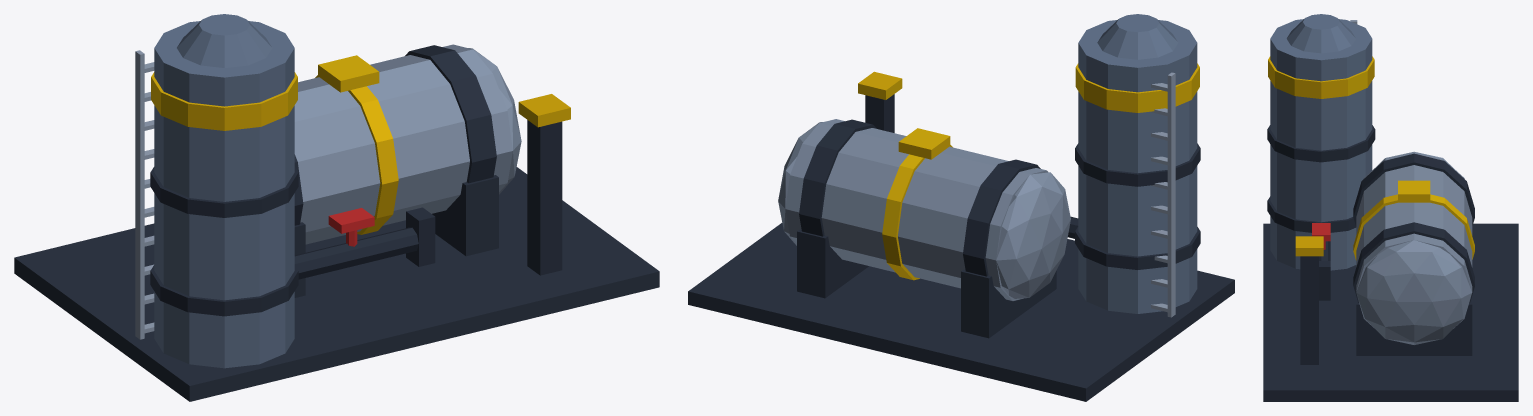
Rendered from Decor_MechaHangar_FuelTanks.fbx.
The picture shows the model from 3 angles, left to right: view 1: azimuth 30°, elevation 25°; view 2: azimuth 150°, elevation 25°; view 3: azimuth 270°, elevation 25°; orthographic projection. The views are drawn at different scales.
Visible parts, largest first — view 1: FuelTanks_Body; view 2: FuelTanks_Body; view 3: FuelTanks_Body.
Boxes of the visible parts, x1=… form: FuelTanks_Body: x1=14, y1=14, x2=659, y2=401; FuelTanks_Body: x1=688, y1=14, x2=1234, y2=401; FuelTanks_Body: x1=1263, y1=14, x2=1518, y2=401.
Size of the model in its own units: 17 by 11.4 by 11.
